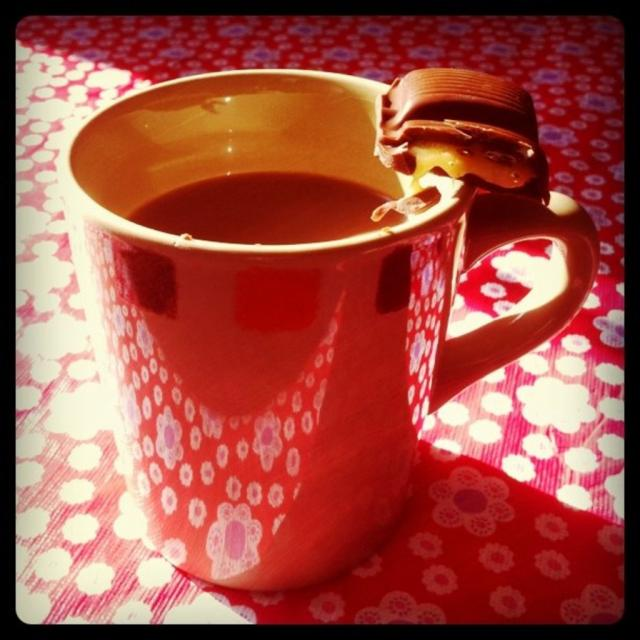Tea: (130, 168, 403, 242)
